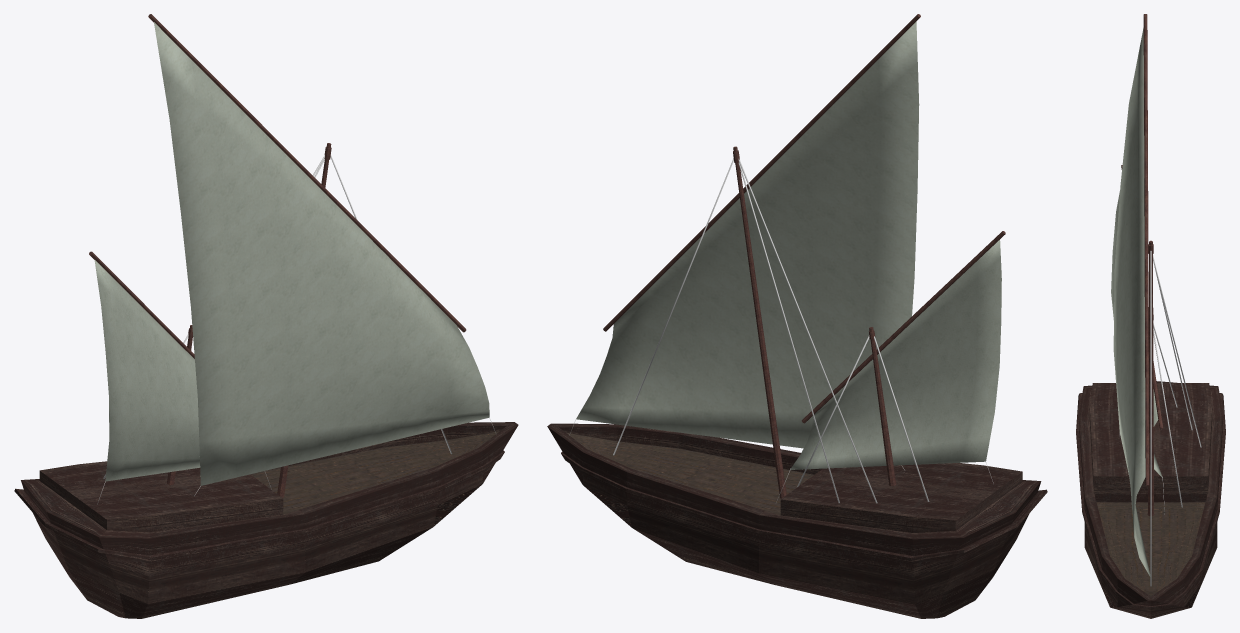
Rendered from Kapal dhow.fbx.
3 views of the same model, side by side, from view 1: azimuth 30°, elevation 25°; view 2: azimuth 150°, elevation 25°; view 3: azimuth 270°, elevation 25° (orthographic). The views are drawn at different scales.
Parts seen in each view (by area): view 1: Cube.007; view 2: Cube.007; view 3: Cube.007.
Boxes of the visible parts, x1,y1,x2,y2 form: Cube.007: (14, 14, 518, 618); Cube.007: (547, 14, 1047, 618); Cube.007: (1076, 14, 1225, 618).
Bounding box in the file's own units: 33.9 × 41.01 × 10.83.
